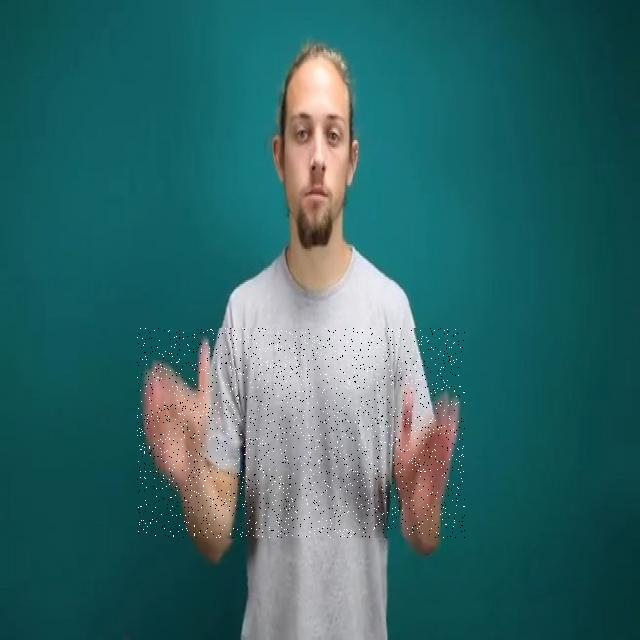small: (138, 328, 466, 538)
